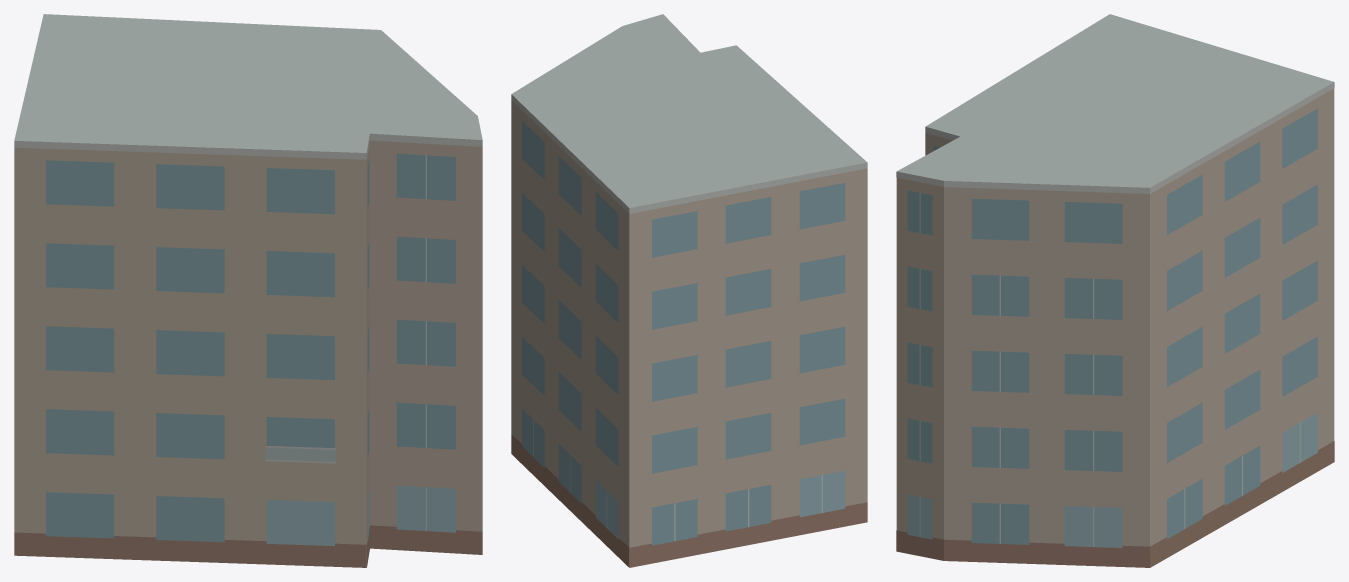
Rendered from survey-upis-32713442.glb.
3 renders of one model, left to right at view 1: azimuth 30°, elevation 25°; view 2: azimuth 150°, elevation 25°; view 3: azimuth 270°, elevation 25°, orthographic. The views are drawn at different scales.
Parts seen in each view (by area): view 1: survey-upis-32713442.tmp; view 2: survey-upis-32713442.tmp; view 3: survey-upis-32713442.tmp.
Part boxes in pixels (box(x1,y1,x2,y2)): survey-upis-32713442.tmp: box(14, 14, 482, 567); survey-upis-32713442.tmp: box(511, 14, 867, 567); survey-upis-32713442.tmp: box(896, 14, 1334, 567).
Bounding box in the file's own units: 14.72 × 15 × 15.68.
